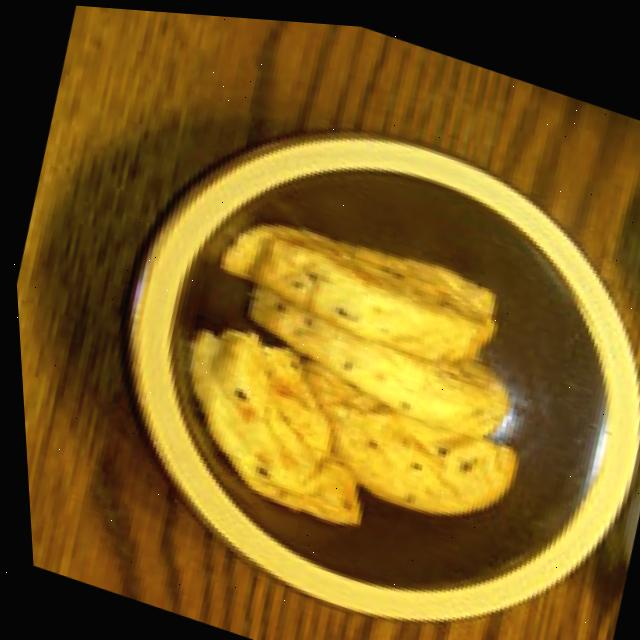熟制海鲜: (116, 137, 613, 629)
